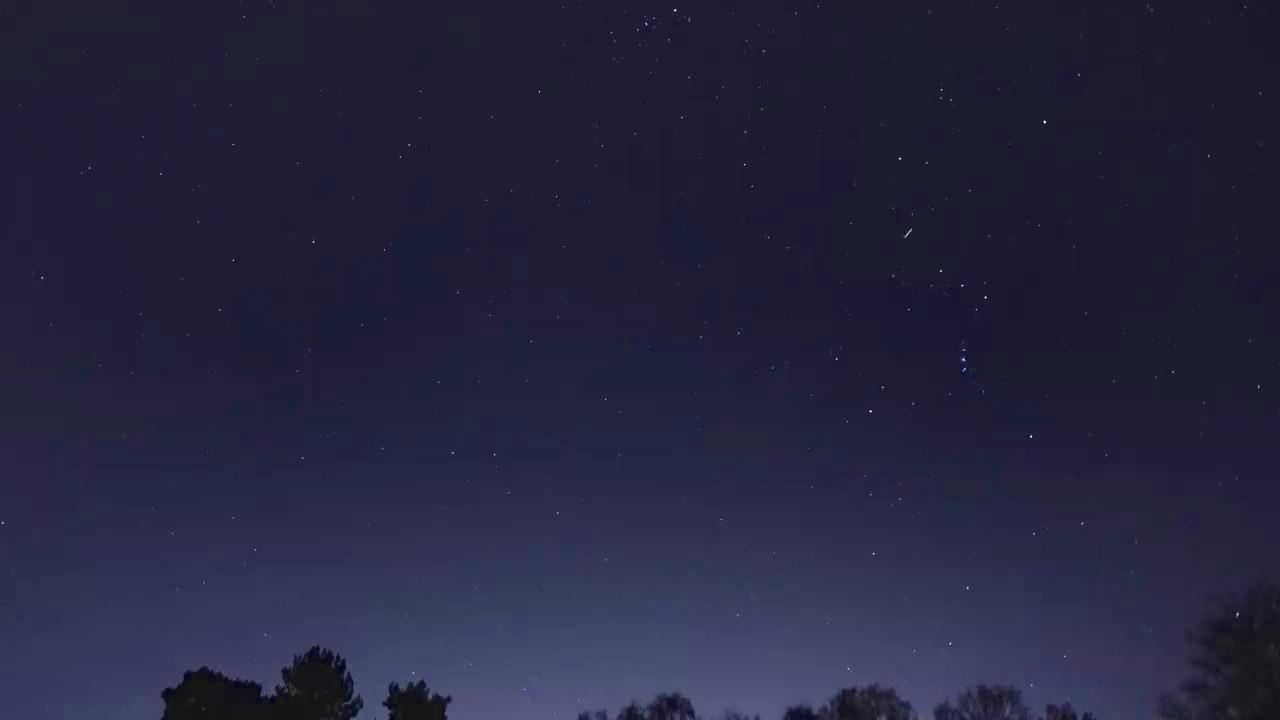meteorite: (887, 221, 932, 242)
